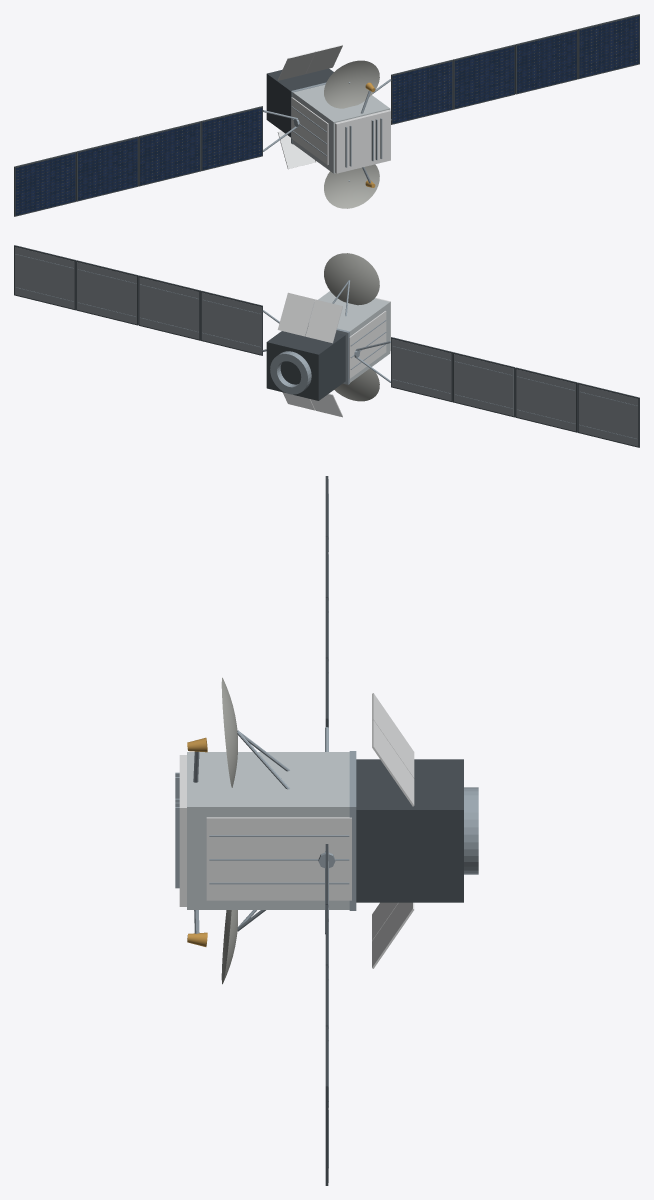
File: ref-l-1300tm-68126.glb
3 views of the same model, one above another, from view 1: azimuth 30°, elevation 25°; view 2: azimuth 150°, elevation 25°; view 3: azimuth 270°, elevation 25° (orthographic). The views are drawn at different scales.
Visible parts, largest first — view 1: Solar cell panel (×8), Communications reflector (×2), Solar panel frame (×8), Earth-facing deck, Payload module, Deployed radiator leaf (×3), Service module, Radiator face; view 2: Rear array substrate (×8), Service module, Solar panel frame (×8), Communications reflector (×2), Deployed radiator leaf (×4), Payload module, Radiator face, Launch adapter ring, Module interface; view 3: Service module, Payload module, Radiator face, Deployed radiator leaf (×3), Launch adapter ring, Earth-facing deck, Communications reflector, Module interface.
Boxes of the visible parts, x1,y1,x2,y2 form: Solar cell panel (×8): [15, 16, 639, 215]; Communications reflector (×2): [324, 60, 379, 208]; Solar panel frame (×8): [14, 14, 639, 216]; Earth-facing deck: [335, 110, 390, 173]; Payload module: [293, 85, 390, 173]; Deployed radiator leaf (×3): [277, 44, 342, 169]; Service module: [266, 68, 333, 137]; Radiator face: [291, 97, 328, 164]; Rear array substrate (×8): [15, 247, 638, 446]; Service module: [266, 326, 345, 400]; Solar panel frame (×8): [14, 245, 639, 447]; Communications reflector (×2): [324, 253, 379, 401]; Deployed radiator leaf (×4): [277, 292, 342, 417]; Payload module: [310, 291, 390, 382]; Radiator face: [349, 311, 386, 378]; Launch adapter ring: [270, 351, 311, 394]; Module interface: [309, 322, 349, 384]; Service module: [356, 759, 463, 902]; Payload module: [187, 752, 349, 909]; Radiator face: [206, 817, 351, 900]; Deployed radiator leaf (×3): [372, 693, 414, 968]; Launch adapter ring: [464, 787, 478, 874]; Earth-facing deck: [179, 755, 186, 906]; Communications reflector: [221, 677, 237, 787]; Module interface: [349, 751, 356, 910].
Bounding box in the file's own units: 30.97 × 6.93 × 6.5.
8 materials, 1 textured.
